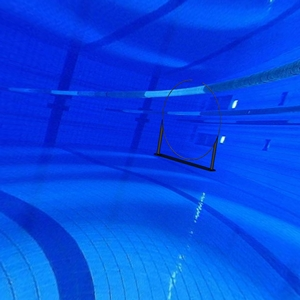circle: (151, 79, 225, 175)
